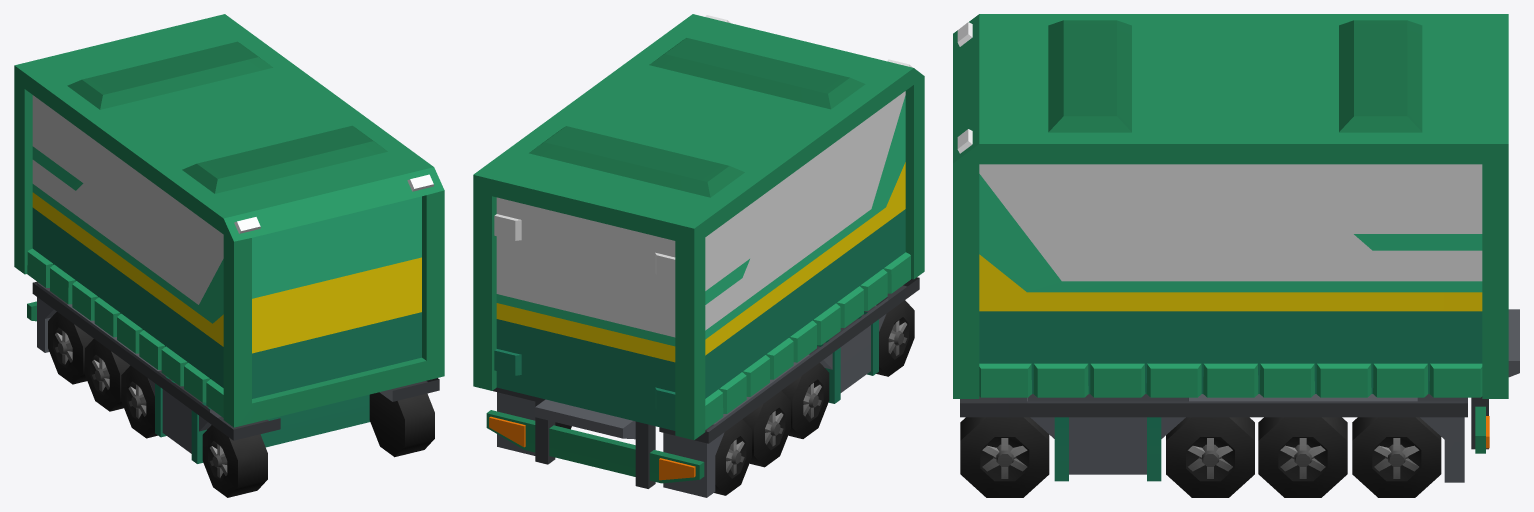
Rendered from cargo_04_A_1.fbx.
3 renders of one model, left to right at view 1: azimuth 30°, elevation 25°; view 2: azimuth 150°, elevation 25°; view 3: azimuth 270°, elevation 25°, orthographic. The views are drawn at different scales.
Parts seen in each view (by area): view 1: cargo_04_A_1; view 2: cargo_04_A_1; view 3: cargo_04_A_1.
Boxes of the visible parts, x1,y1,x2,y2 form: cargo_04_A_1: [14, 14, 444, 497]; cargo_04_A_1: [473, 14, 924, 497]; cargo_04_A_1: [953, 14, 1519, 497].
Size of the model in its own units: 1339 by 1772 by 2468.
